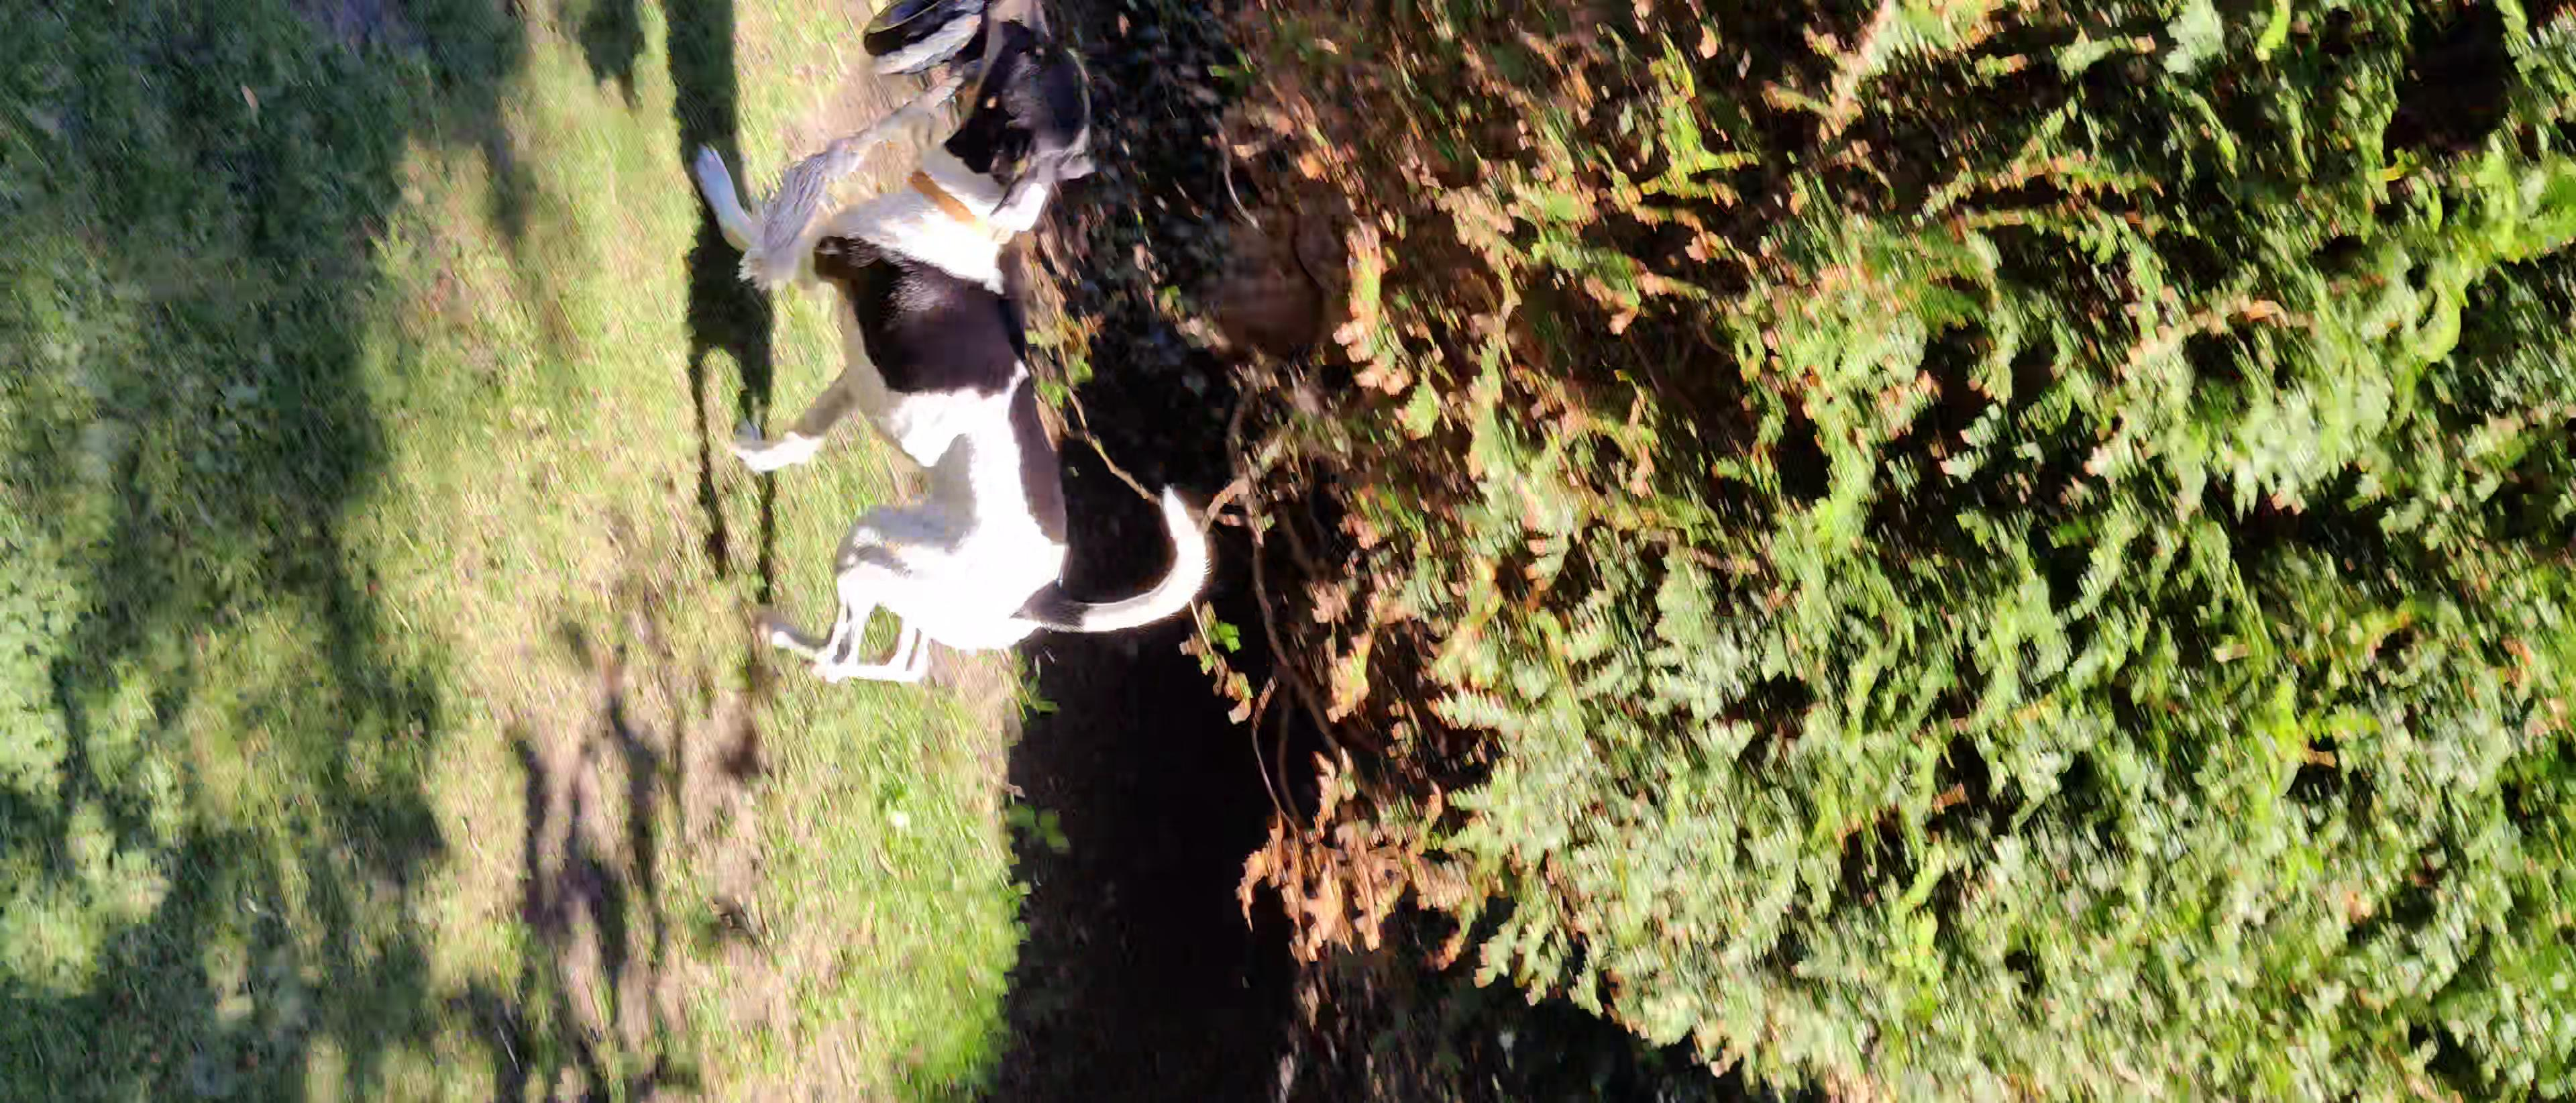Dog: (678, 0, 1216, 687)
